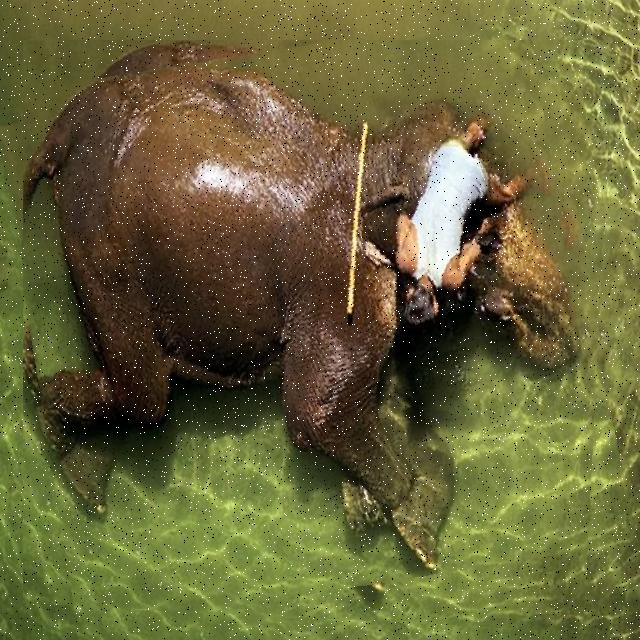elephant: (23, 40, 614, 632)
